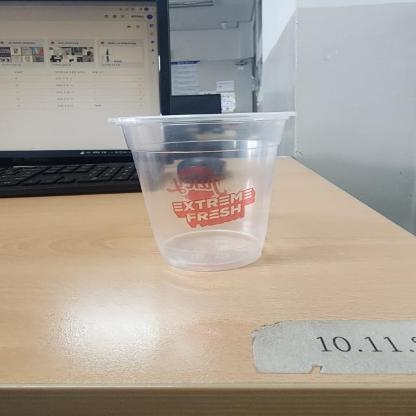Plastic Cup: (107, 109, 300, 269)
